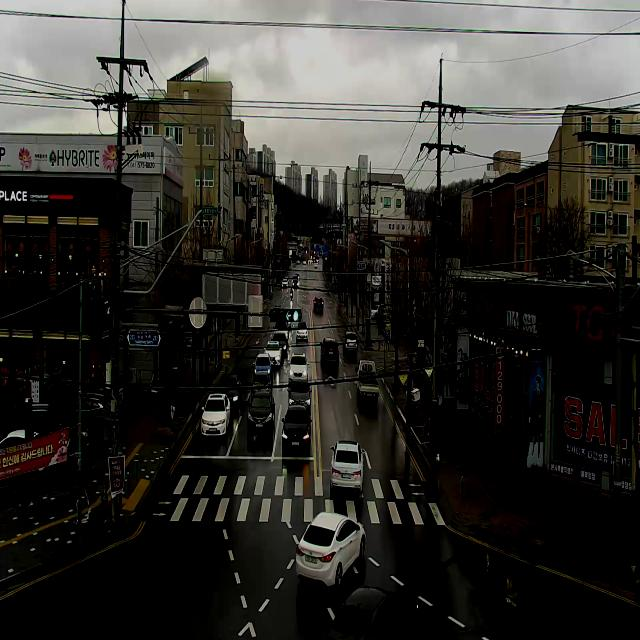Car: (296, 512, 366, 588), (322, 586, 420, 640), (12, 412, 92, 460), (0, 429, 45, 478), (330, 441, 365, 494), (74, 392, 110, 442), (281, 406, 312, 452), (247, 392, 276, 436), (201, 394, 230, 436), (215, 374, 242, 410), (287, 386, 312, 416), (288, 352, 309, 384), (253, 354, 273, 382), (251, 372, 273, 397), (320, 337, 339, 365), (264, 341, 282, 365), (271, 332, 288, 354), (295, 321, 309, 343), (273, 322, 289, 340), (344, 331, 358, 351), (372, 304, 386, 319), (313, 297, 324, 312), (183, 331, 192, 347), (292, 275, 298, 285), (282, 279, 288, 287), (284, 276, 290, 284), (293, 280, 298, 288), (294, 273, 300, 279), (288, 322, 292, 328), (296, 259, 300, 264), (314, 264, 318, 268), (303, 260, 306, 265), (308, 259, 311, 264)
Motorcycle: (290, 288, 293, 299)
Truck: (355, 361, 380, 402)
